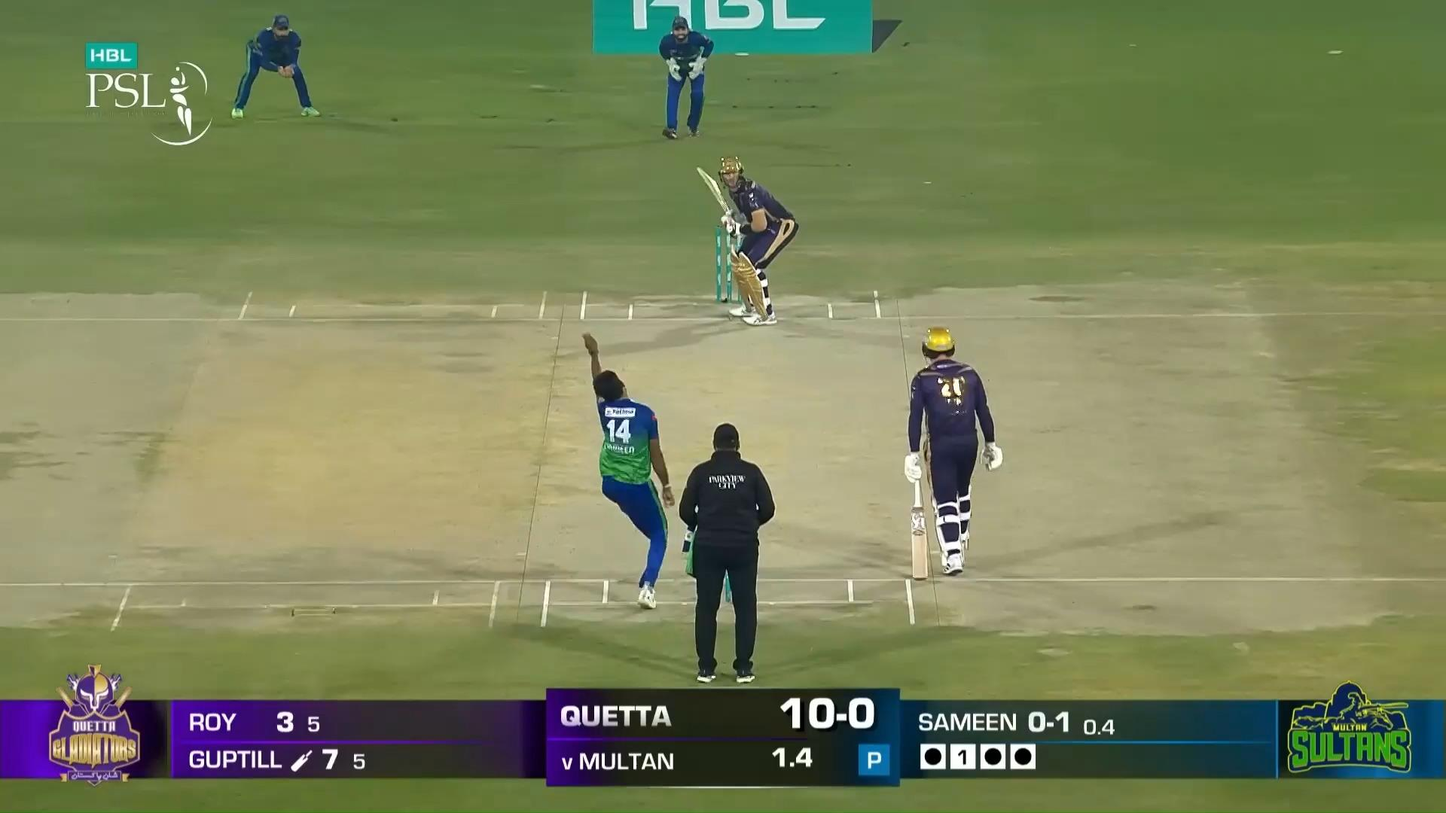batsman: (696, 156, 799, 326)
